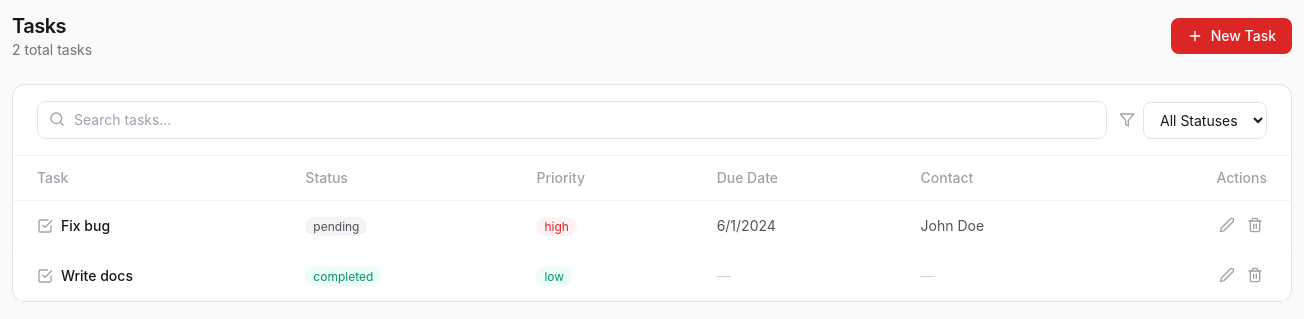
Test case: filters by status
Check: the text "Fix bug" is shown, box [61, 216, 110, 236]
Step 1. Select "Completed" in the dropdown showing "All Statuses" → [1205, 120], box [1143, 102, 1267, 138]
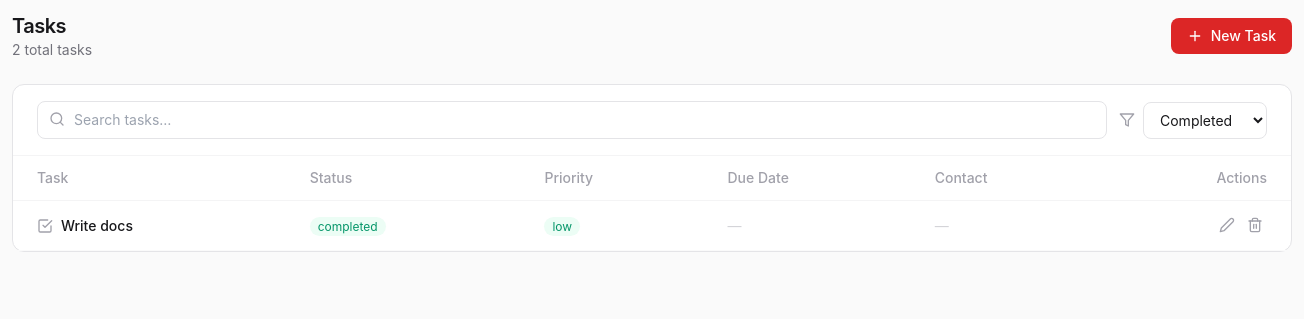
Check: the text "Write docs" is shown, box [61, 216, 133, 236]
Check: the text "Fix bug" is gone
